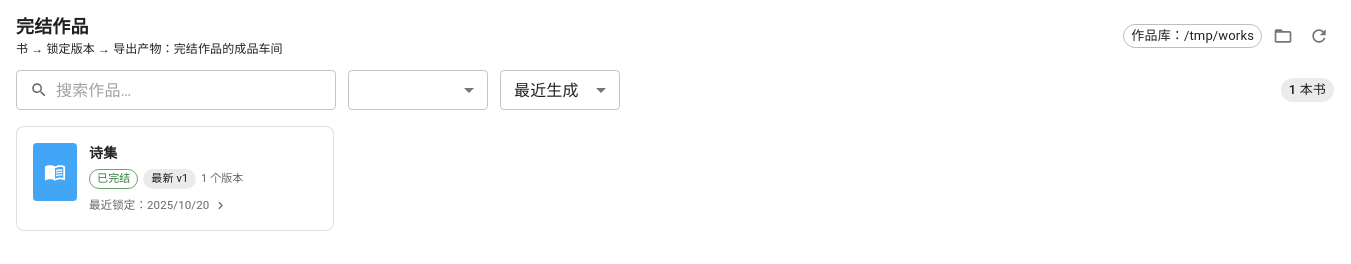
Test: ㉱ E-A′ 真渲染：单位词跟着书的体裁走 › 诗集：版本行读「12首 · 20.0万字」，展开快照读「快照诗作（1）」
The width and height of the screenshot is (1351, 264).
Click the element with test id "published-book-card-bp".
click(175, 178)  # box [16, 126, 334, 231]
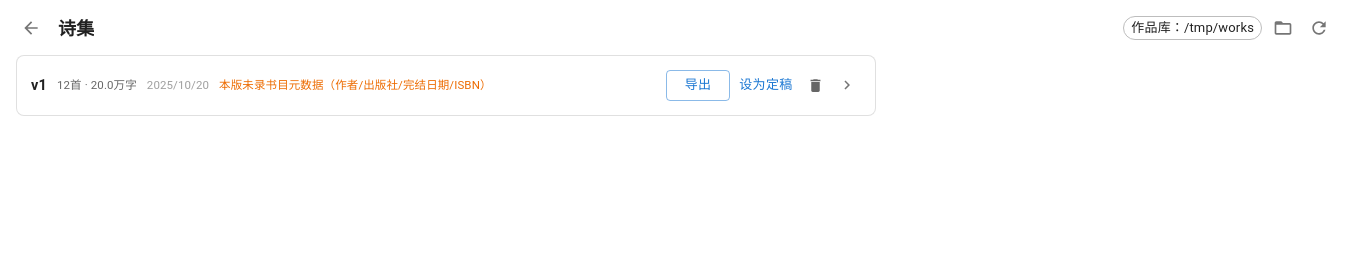
Click the button with test id "published-version-detail-1".
click(847, 85)  # box [833, 71, 861, 99]
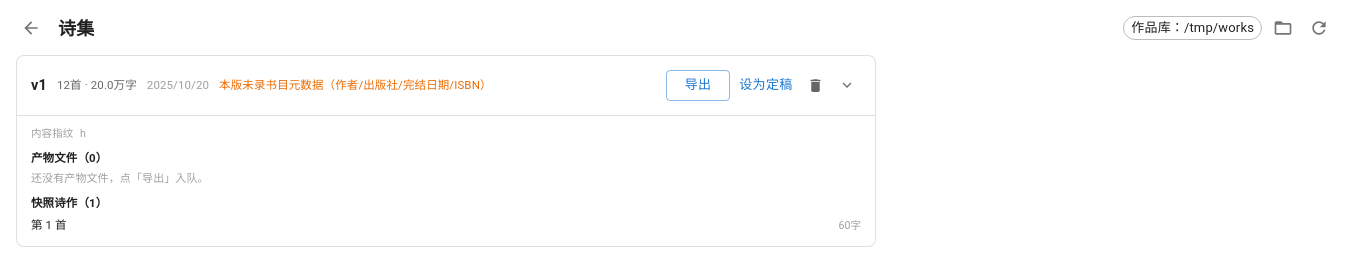
Expected: the text "快照诗作（1）" is shown, [31, 196, 107, 210]
